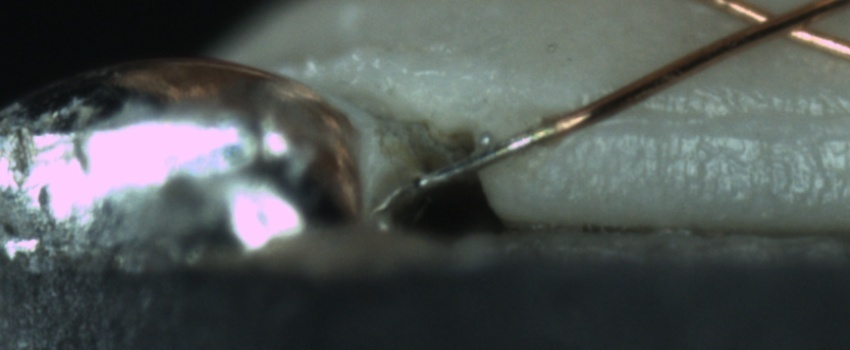CL: (726, 2, 835, 45)
DL: (582, 89, 849, 153)
TS: (419, 133, 532, 191)
